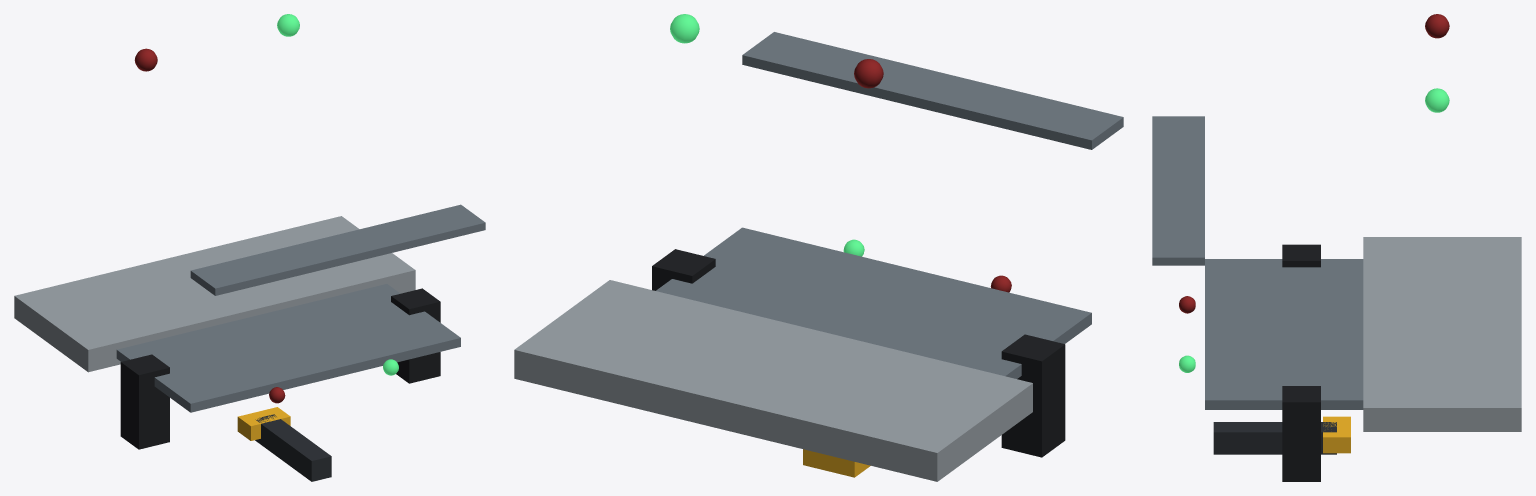
File: equipment--dockLevelerBay.glb
3 views of the same model, side by side, from view 1: azimuth 30°, elevation 25°; view 2: azimuth 150°, elevation 25°; view 3: azimuth 270°, elevation 25° (orthographic). The views are drawn at different scales.
Parts seen in each view (by area): view 1: dockLevelerBay:shell, leverPlate, lip, restraintArm; view 2: dockLevelerBay:shell, leverPlate, lip, restraintArm, dockLightRed, dockLightGreen; view 3: dockLevelerBay:shell, leverPlate, lip, restraintArm, dockLightRed, dockLightGreen.
Boxes of the visible parts, x1,y1,x2,y2 form: dockLevelerBay:shell: [14, 216, 440, 449]; leverPlate: [116, 284, 460, 412]; lip: [190, 204, 485, 295]; restraintArm: [237, 407, 331, 481]; dockLevelerBay:shell: [514, 249, 1065, 481]; leverPlate: [656, 227, 1091, 378]; lip: [742, 32, 1123, 149]; restraintArm: [803, 449, 870, 477]; dockLightRed: [854, 59, 883, 88]; dockLightGreen: [670, 14, 699, 43]; dockLevelerBay:shell: [1282, 237, 1521, 481]; leverPlate: [1205, 259, 1363, 409]; lip: [1152, 116, 1204, 265]; restraintArm: [1213, 416, 1350, 454]; dockLightRed: [1425, 14, 1449, 38]; dockLightGreen: [1425, 88, 1449, 112].
Size of the model in its own units: 2.3 by 2.49 by 2.1.
